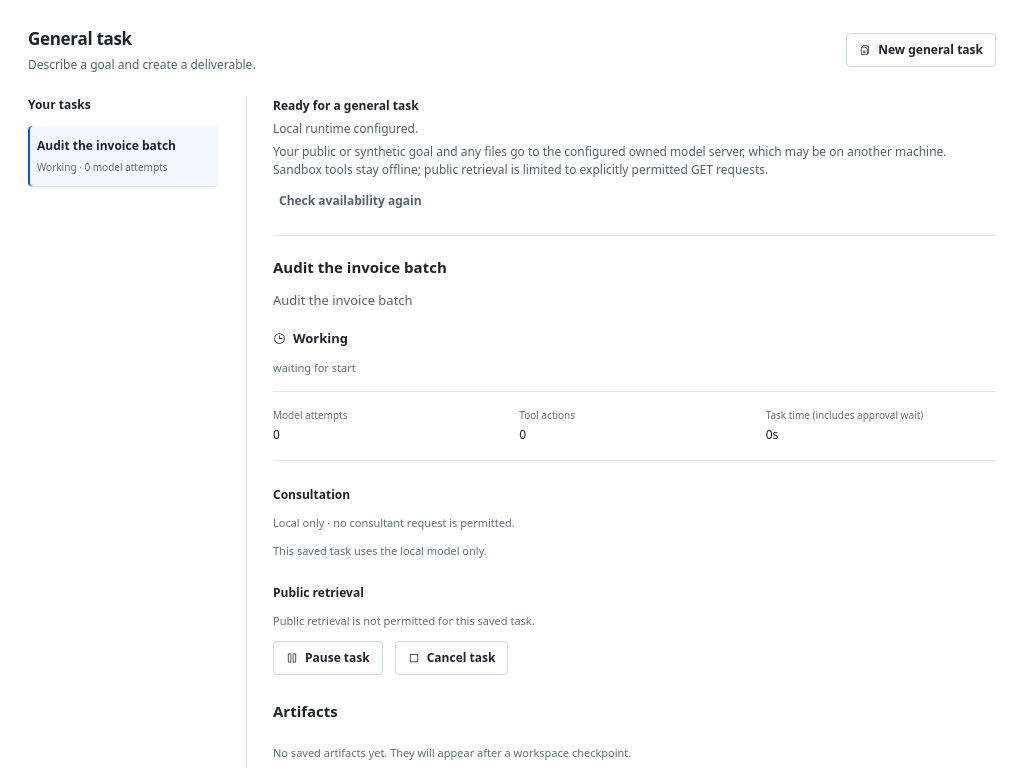
Test: general task workspace › restores saved state and uses host-authorized pause, resume and cancel actions
Click the button "Pause task".
click(328, 658)  # box [273, 640, 383, 674]
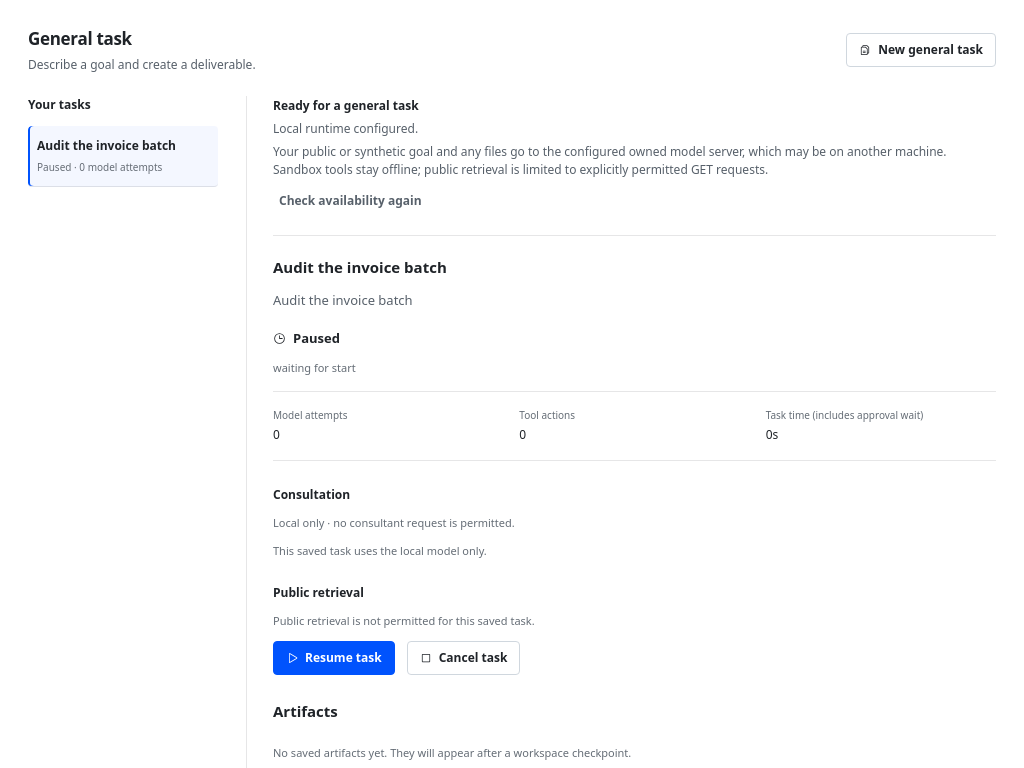
Click the button "Resume task".
click(334, 658)  # box [273, 640, 395, 674]
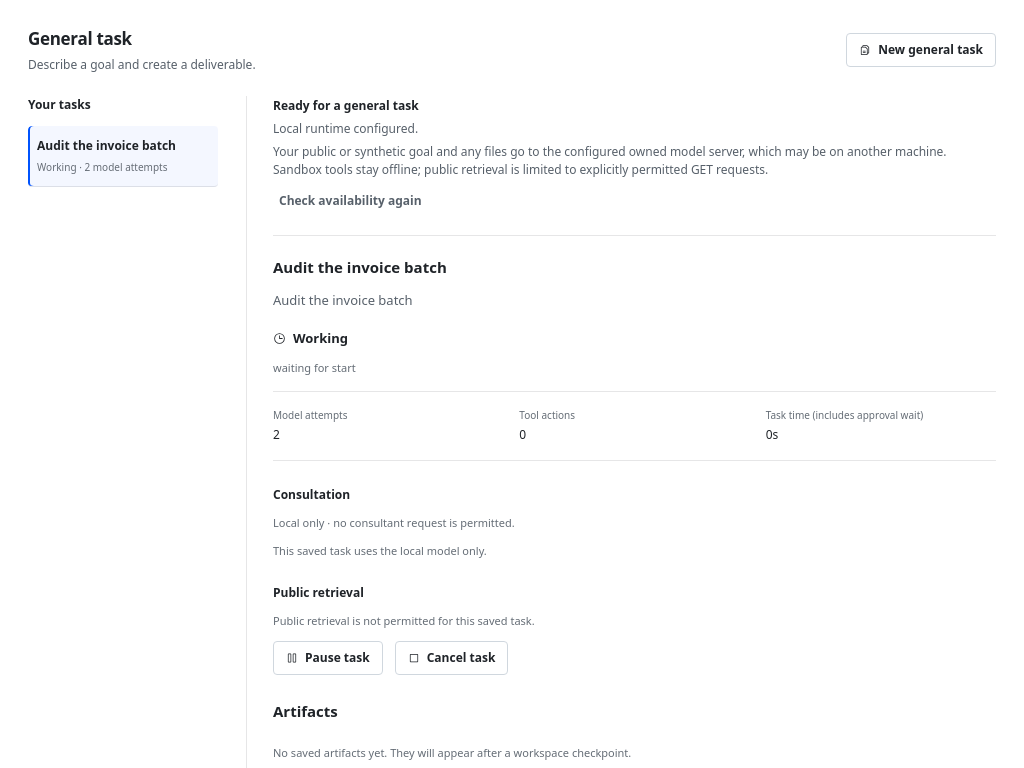
Click the button "Cancel task".
click(452, 658)  # box [395, 640, 508, 674]
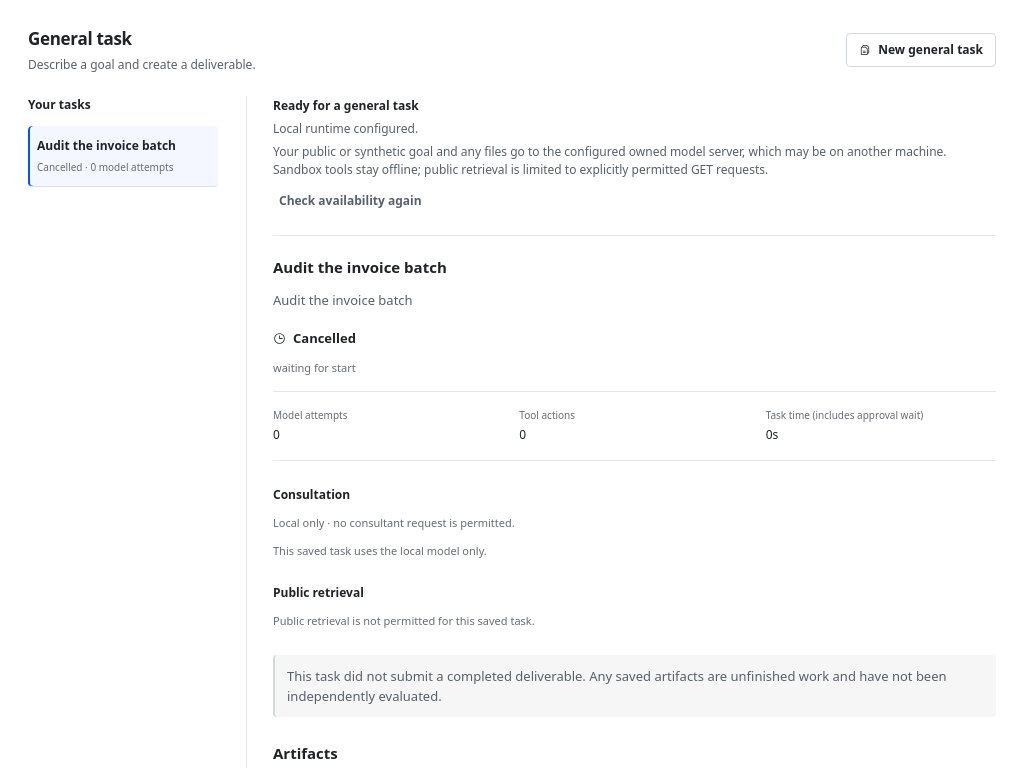
Expected: the text "did not submit a completed deliverable" is shown, [287, 666, 947, 705]
